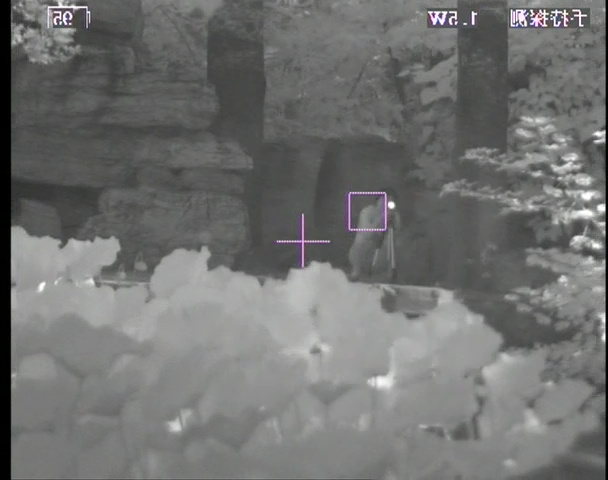my: (387, 200, 398, 211)
